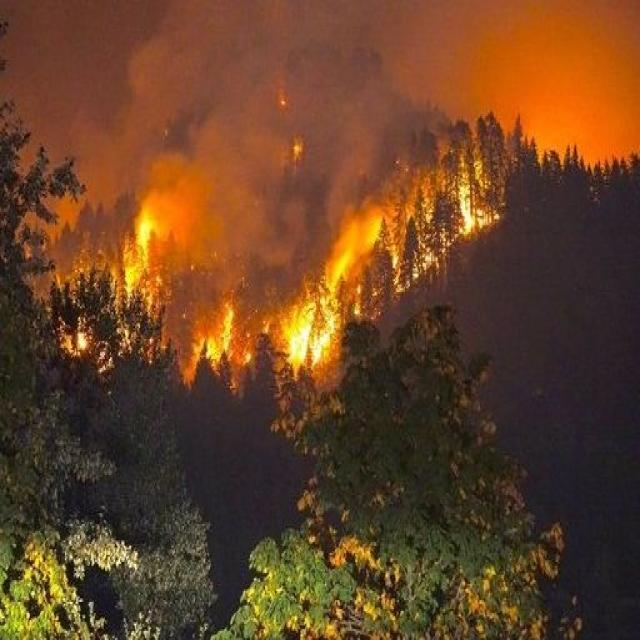Fire: (62, 200, 496, 363)
Smoke: (122, 0, 446, 257)
